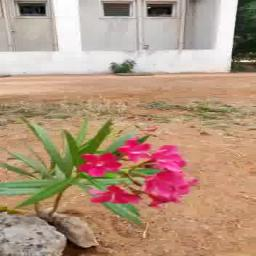OLEANDER: (8, 118, 201, 218)
